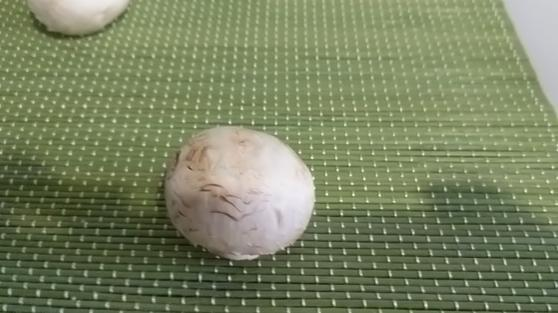champignon: (164, 125, 316, 261)
